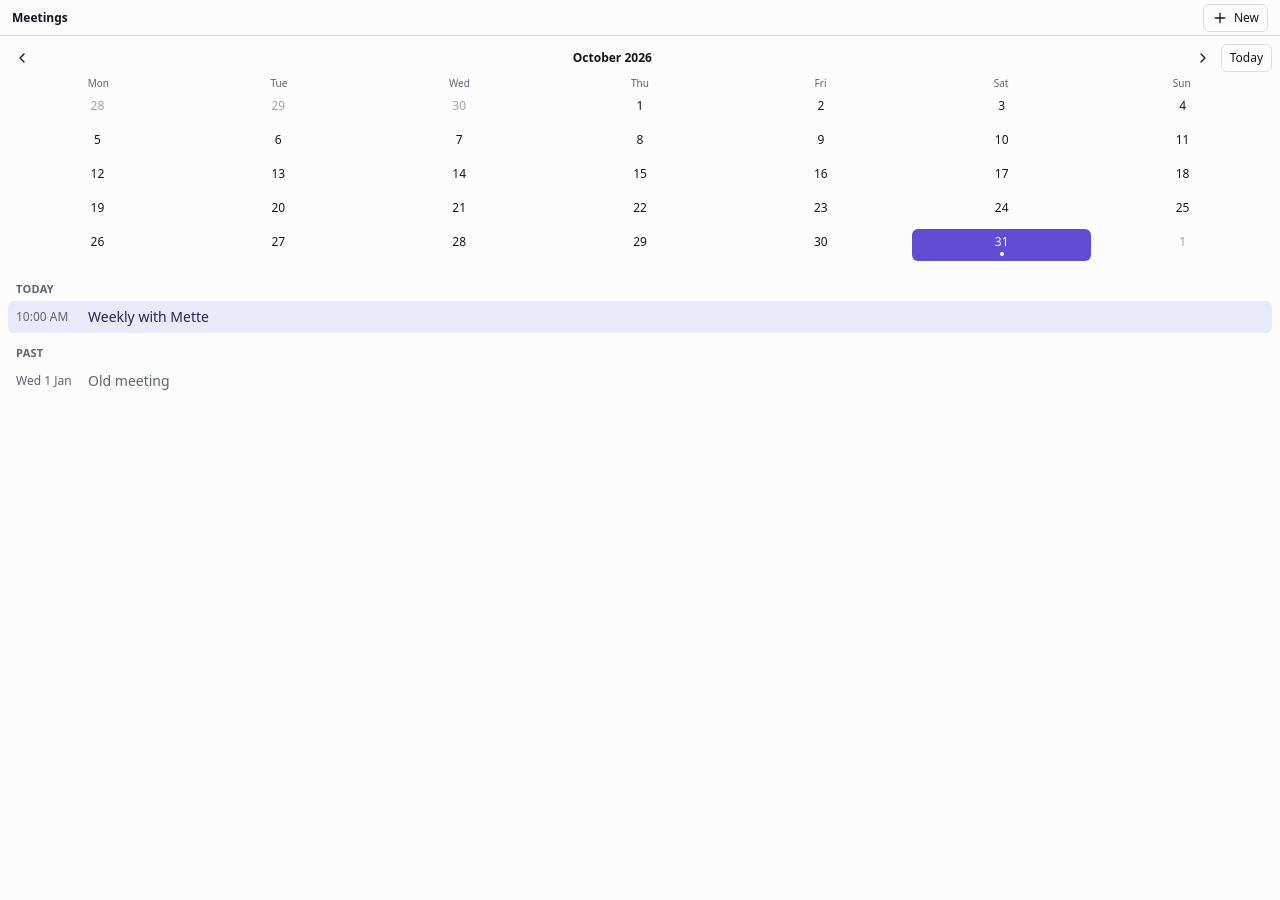
The Meetings area › lists today's and past meetings, and shows the chosen one in the middle
Expected: the button "10:00 AM Weekly with Mette" is shown, [8, 301, 1272, 333]
Expected: the heading "Past" is shown, [16, 345, 44, 360]
Step 1. Click the button "Wed 1 Jan Old meeting" → (44,380), box [8, 365, 1272, 397]
(page scrolled)
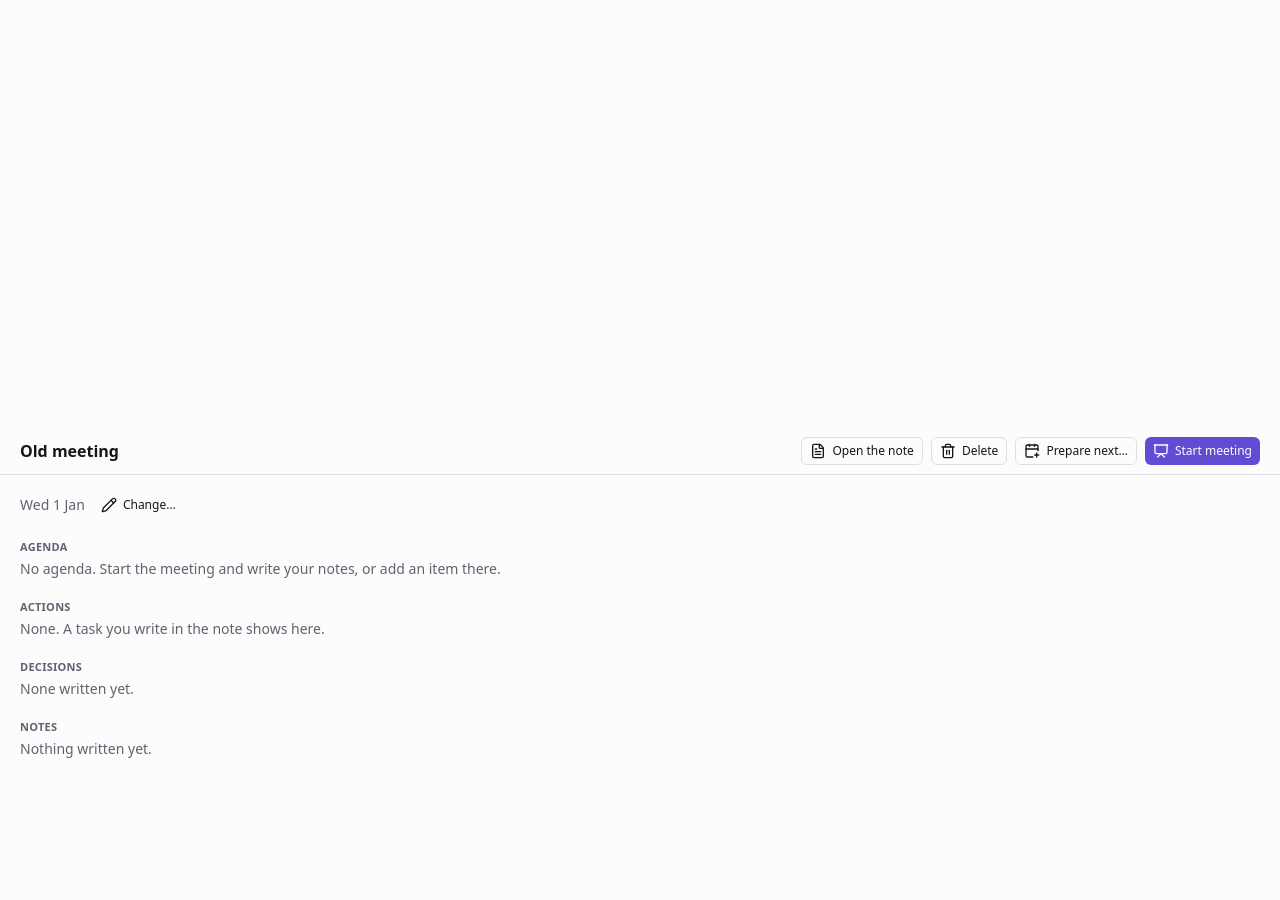
Expected: the heading "Old meeting" is shown, [20, 440, 119, 462]
